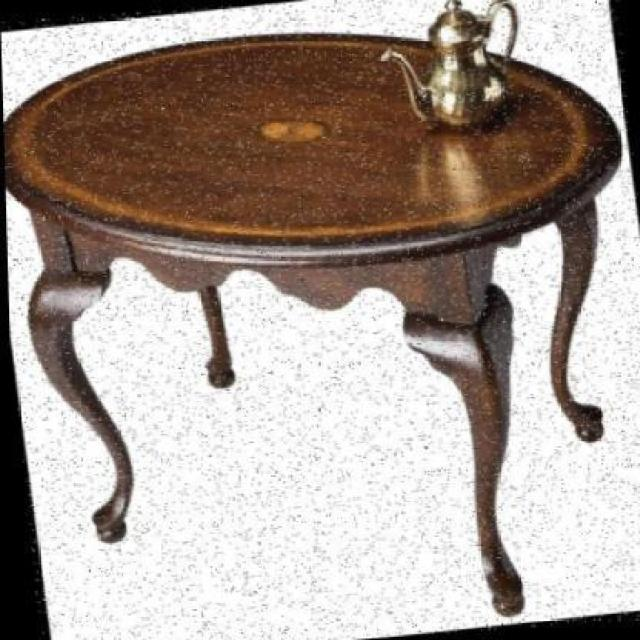tables: (1, 29, 622, 617)
